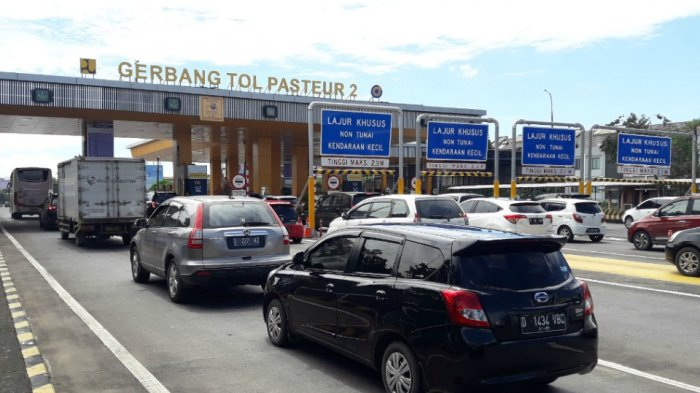plate: (519, 308, 565, 333), (233, 237, 262, 249)
